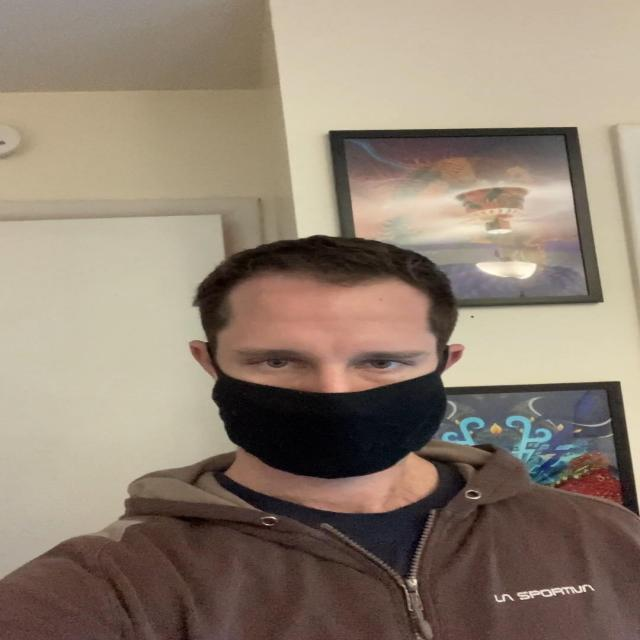no hat: (188, 252, 468, 502)
